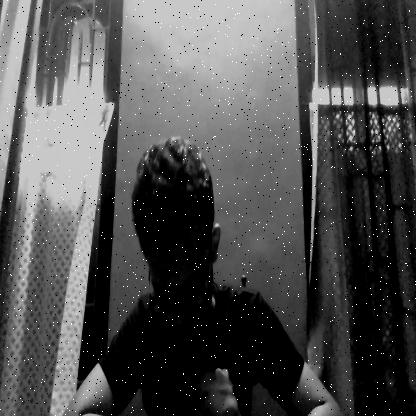Distracted: (132, 139, 222, 348)
